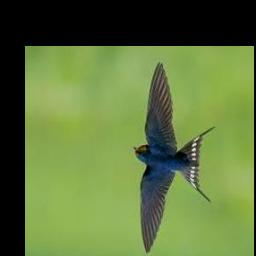Swallow: (132, 61, 216, 253)
